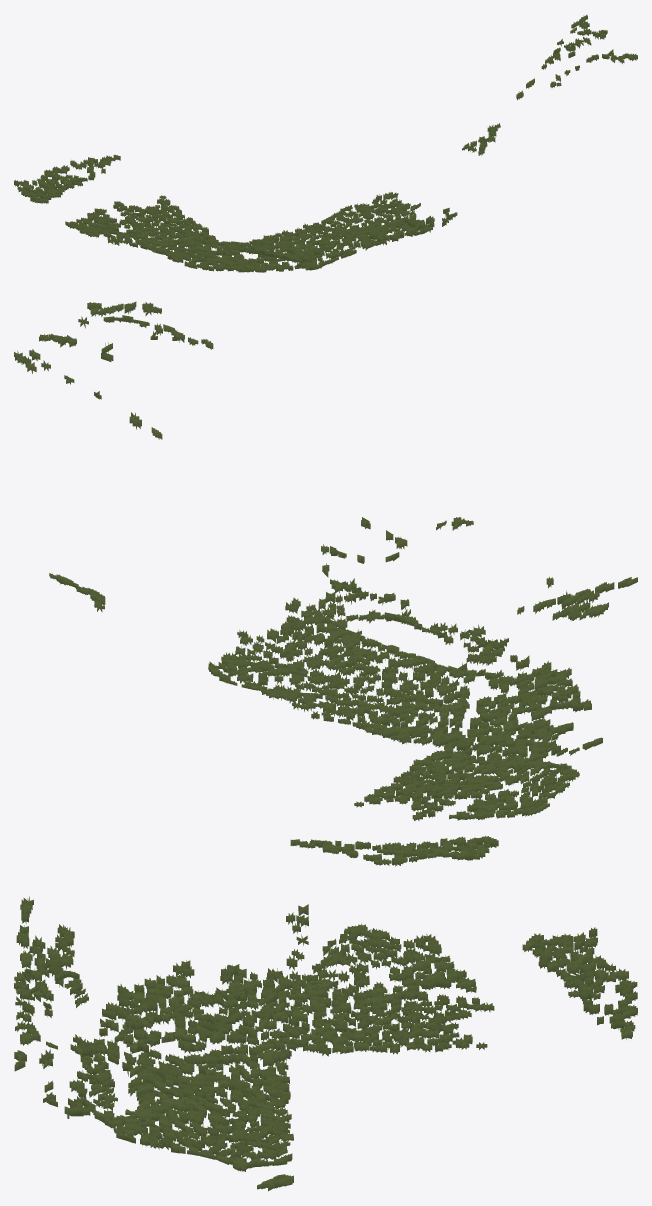
Rendered from TRB8-GRASS-CHUNK-3-1.glb.
3 renders of one model, top to bottom at view 1: azimuth 30°, elevation 25°; view 2: azimuth 150°, elevation 25°; view 3: azimuth 270°, elevation 25°, orthographic. The views are drawn at different scales.
Parts seen in each view (by area): view 1: TRB8-GRASS-CHUNK-3-1; view 2: TRB8-GRASS-CHUNK-3-1; view 3: TRB8-GRASS-CHUNK-3-1.
Part boxes in pixels (x1=…): TRB8-GRASS-CHUNK-3-1: x1=14, y1=14, x2=637, y2=272; TRB8-GRASS-CHUNK-3-1: x1=14, y1=301, x2=637, y2=866; TRB8-GRASS-CHUNK-3-1: x1=14, y1=896, x2=637, y2=1191.
Size of the model in its own units: 40.52 by 16.33 by 30.43.
Materials: 1 (1 with a texture image).
